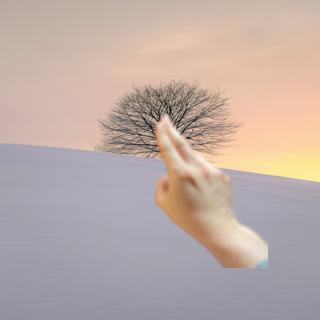DHAVE: (145, 111, 244, 239)
